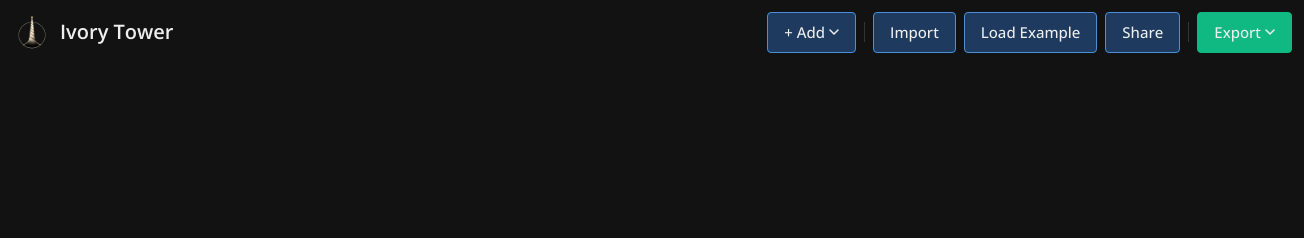
Toolbar › Export dropdown › closes dropdown after selecting an export option
Click the button "Export" at (1245, 32), box [1197,12,1292,52]
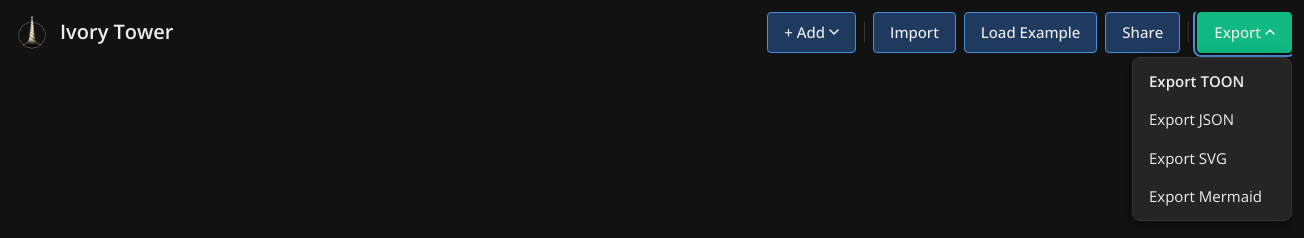
Click the menu item "Export JSON" at (1212, 119), box [1133,100,1291,138]
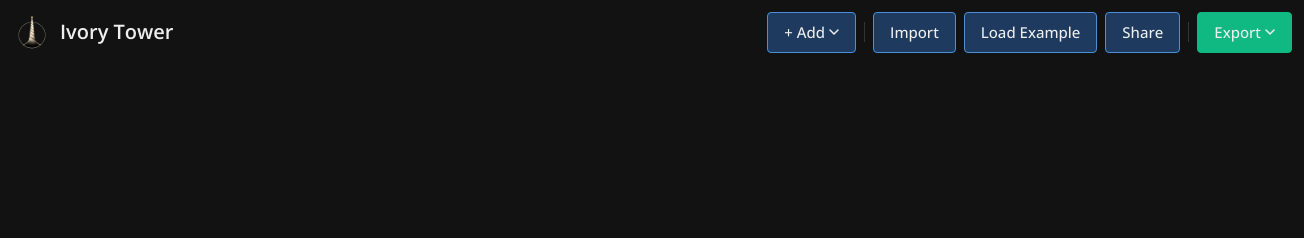
Result: the menu item "Export JSON" is gone
